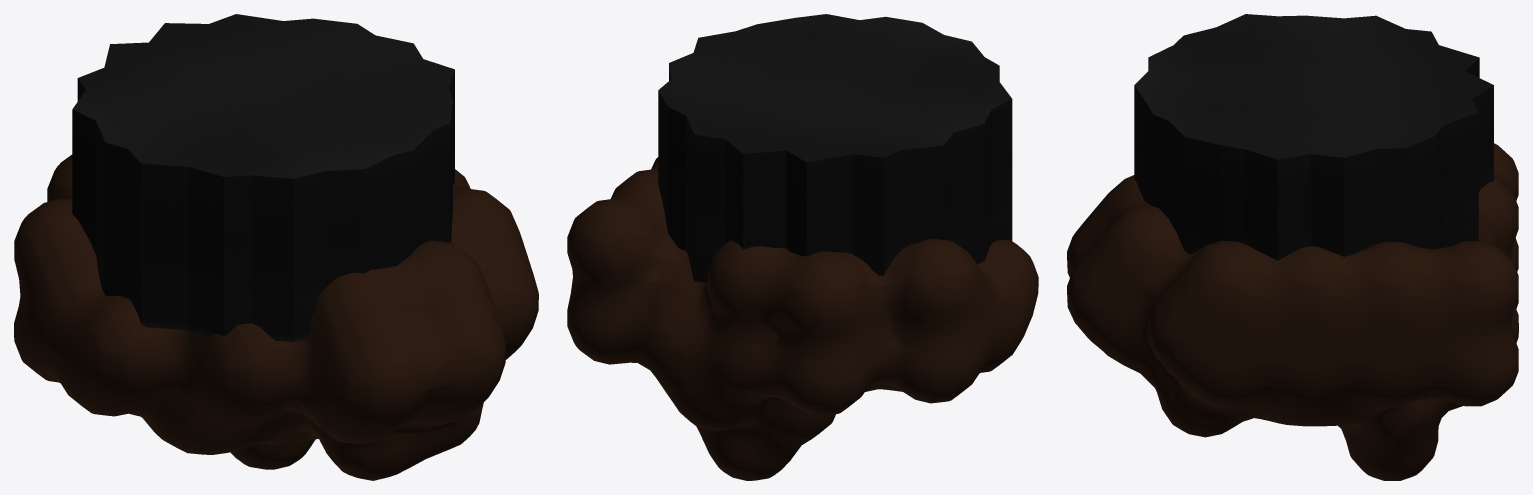
The model's file is Cupcake.fbx.
The picture shows the model from 3 angles, left to right: view 1: azimuth 30°, elevation 25°; view 2: azimuth 150°, elevation 25°; view 3: azimuth 270°, elevation 25°; orthographic projection. The views are drawn at different scales.
Visible parts, largest first — view 1: Cylinder, Mball; view 2: Mball, Cylinder; view 3: Mball, Cylinder.
Boxes of the visible parts, box(x1,y1,x2,y2) form: Cylinder: box(72, 14, 454, 342); Mball: box(14, 154, 538, 480); Mball: box(567, 157, 1038, 480); Cylinder: box(658, 14, 1012, 282); Mball: box(1067, 143, 1518, 480); Cylinder: box(1134, 14, 1493, 260).
Bounding box in the file's own units: 522 × 507 × 556.
